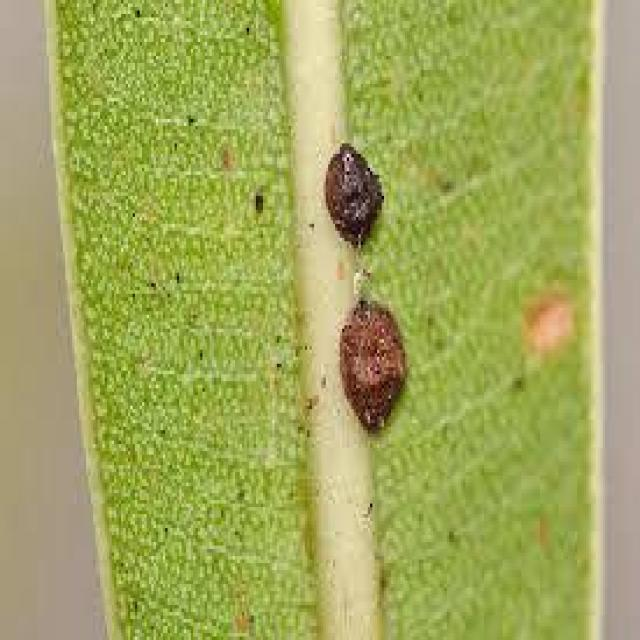BlackScale: (338, 298, 409, 427), (324, 143, 382, 244)
